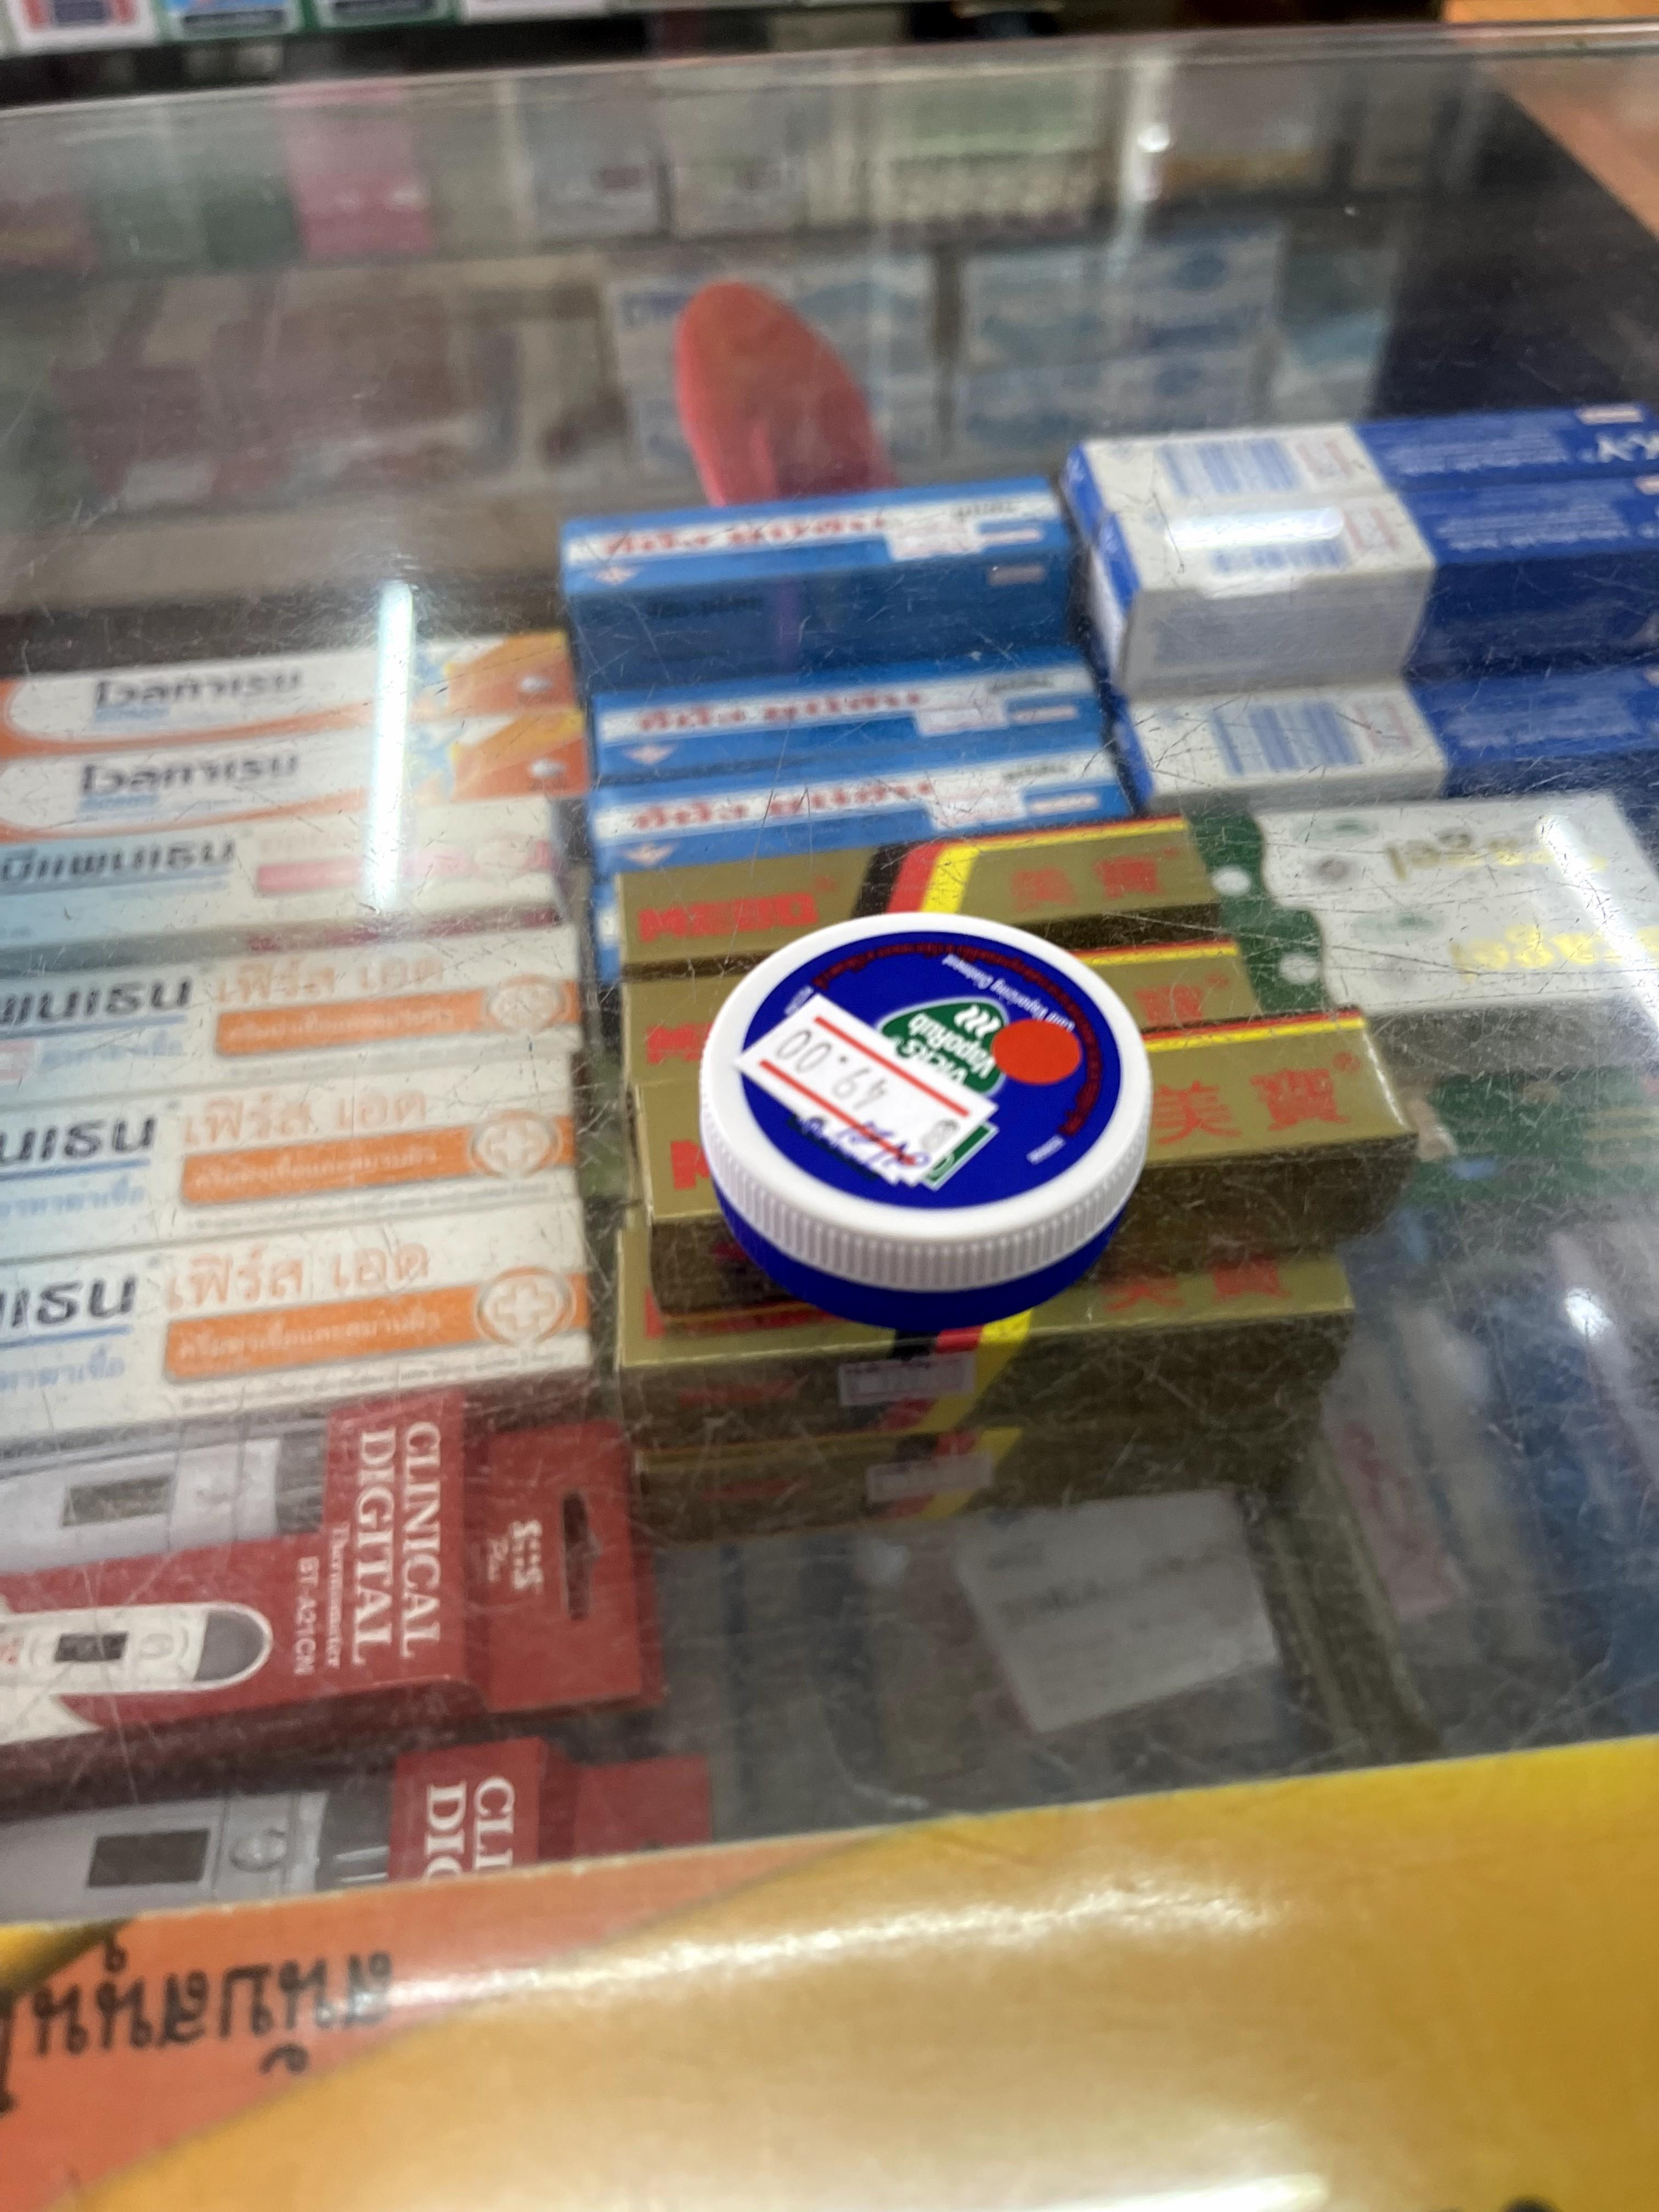VapoRub_Small: (713, 911, 1152, 1320)
